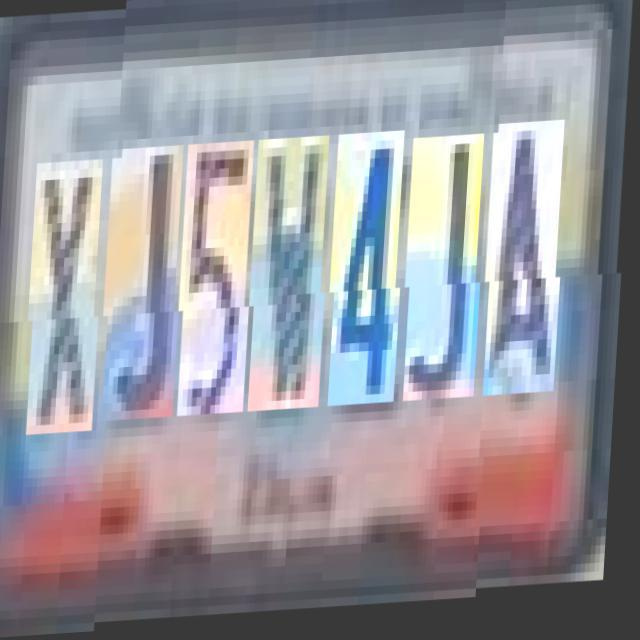4: (333, 136, 412, 411)
5: (182, 144, 262, 418)
A: (488, 136, 571, 412)
J: (108, 147, 190, 423), (408, 140, 491, 407)
W: (253, 140, 336, 416)
X: (31, 152, 110, 426)
